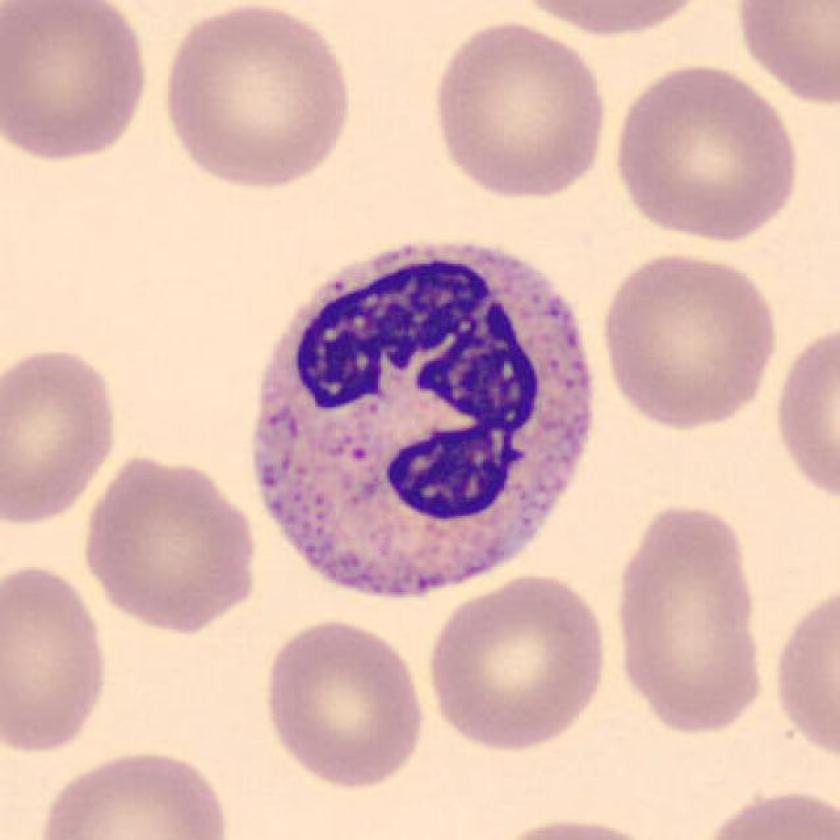neutrophil: (253, 241, 593, 597)
